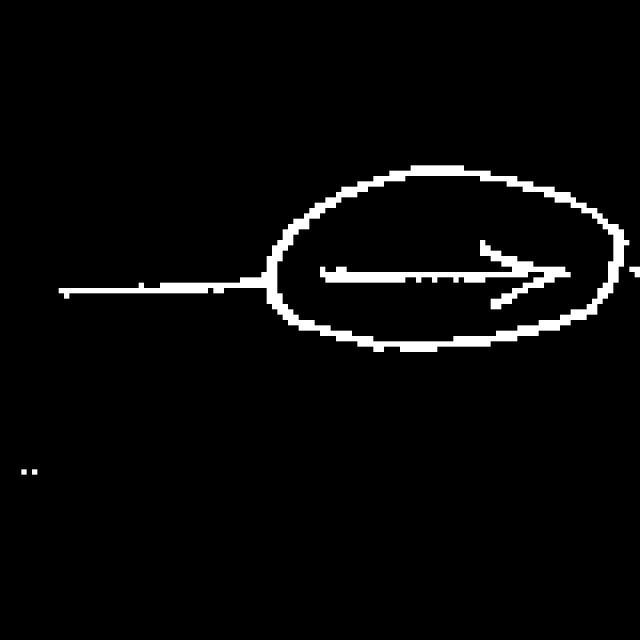current_source: (245, 144, 640, 373)
